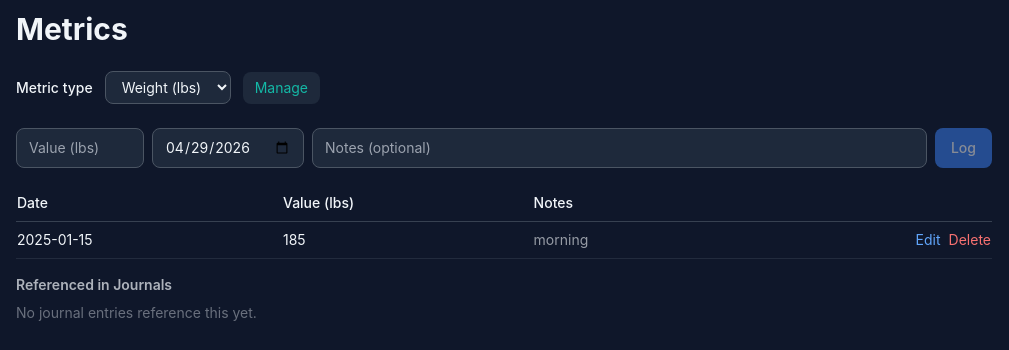
it: Metrics › shows Edit button and enters inline edit mode on click
This screenshot has width=1009, height=350.
Expected: the text "2025-01-15" is shown, [16,222,282,258]
Click the button with aria-label "Edit entry". click: (928, 240)
box: [916,230,941,250]
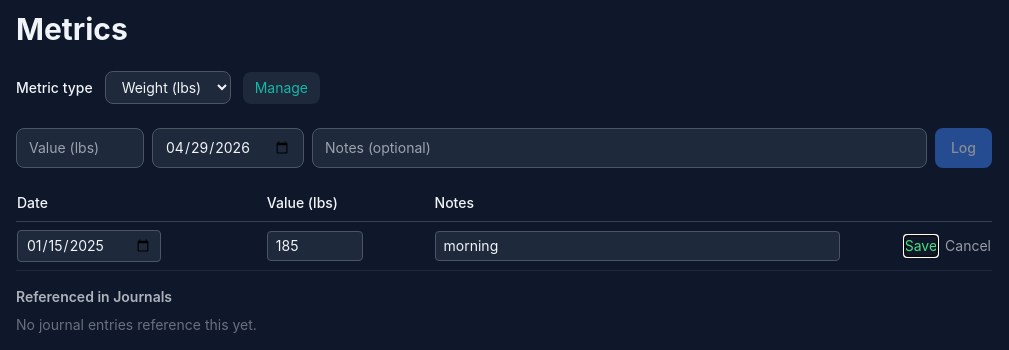
Result: the number field showing "185" is shown at [267,231,363,261]
Result: the date field showing "2025-01-15" is shown at [17,230,161,262]
Result: the field showing "morning" is shown at [434,231,840,261]
